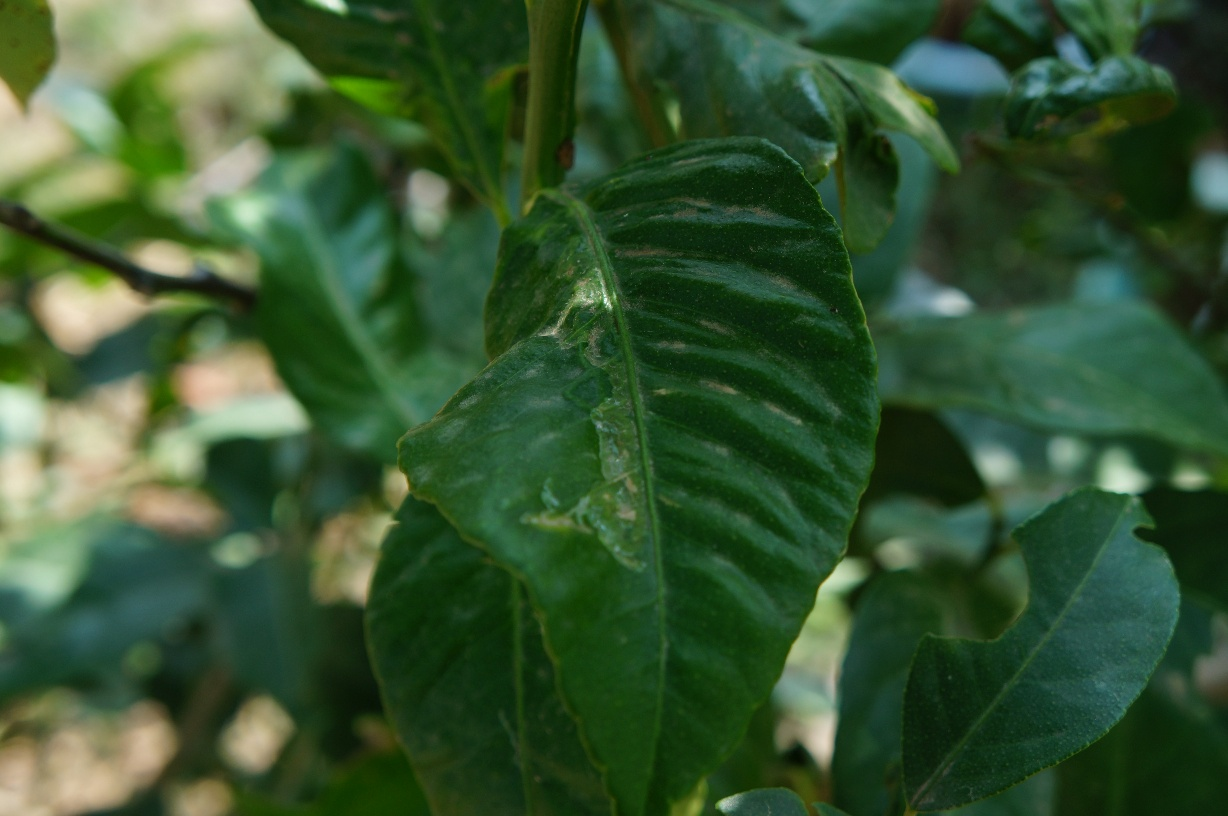damage: (525, 229, 689, 578)
